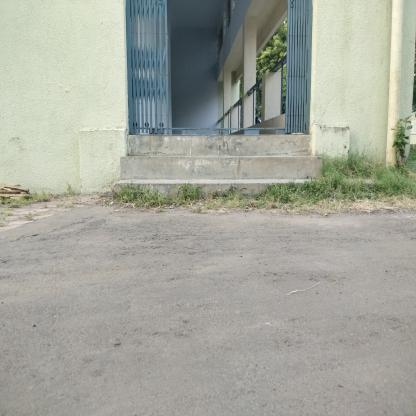stairs: (152, 138, 307, 216)
